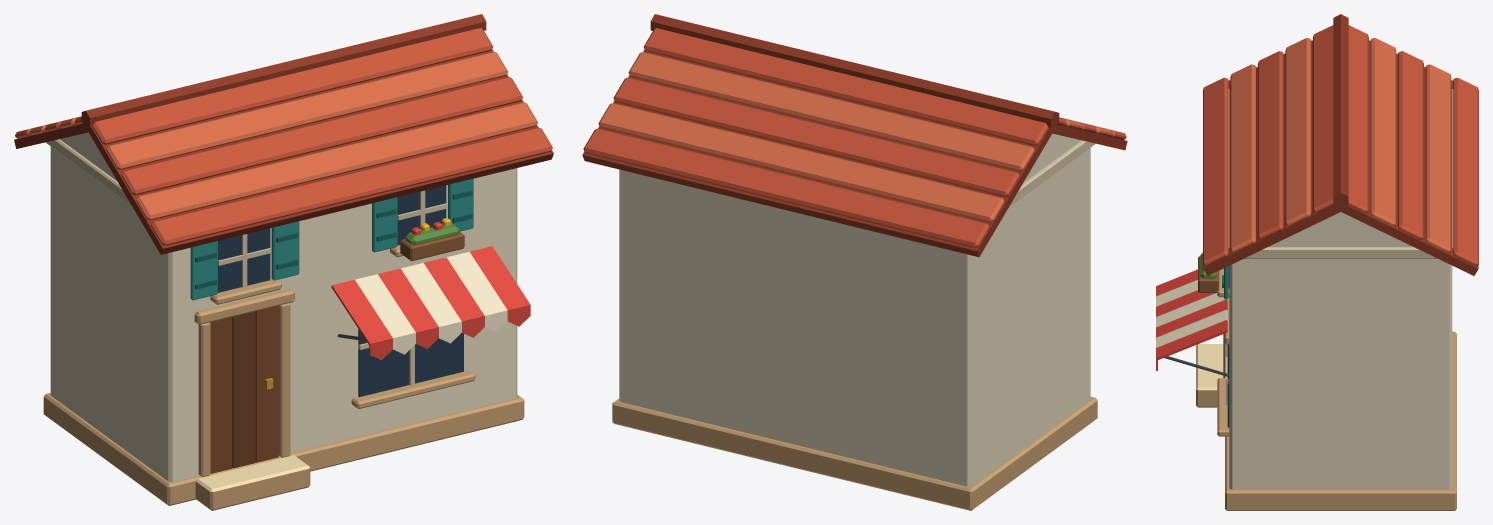
File: house_a.glb
3 renders of one model, left to right at view 1: azimuth 30°, elevation 25°; view 2: azimuth 150°, elevation 25°; view 3: azimuth 270°, elevation 25°, orthographic. The views are drawn at different scales.
Visible parts, largest first — view 1: house_a; view 2: house_a; view 3: house_a.
Part boxes in pixels (left/top/right/bottom): house_a: left=14, top=14, right=553, bottom=510; house_a: left=582, top=14, right=1127, bottom=510; house_a: left=1156, top=14, right=1478, bottom=510.
Size of the model in its own units: 5.68 by 4.87 by 4.34.
Materials: 1 (1 with a texture image).
